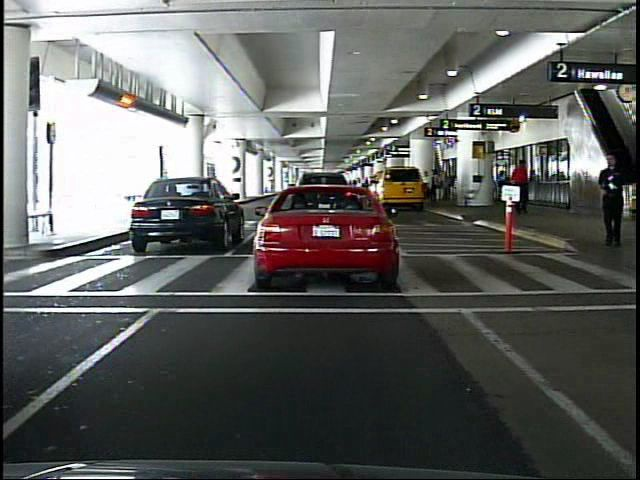person: (594, 153, 623, 249), (512, 159, 530, 215), (421, 166, 434, 202)
